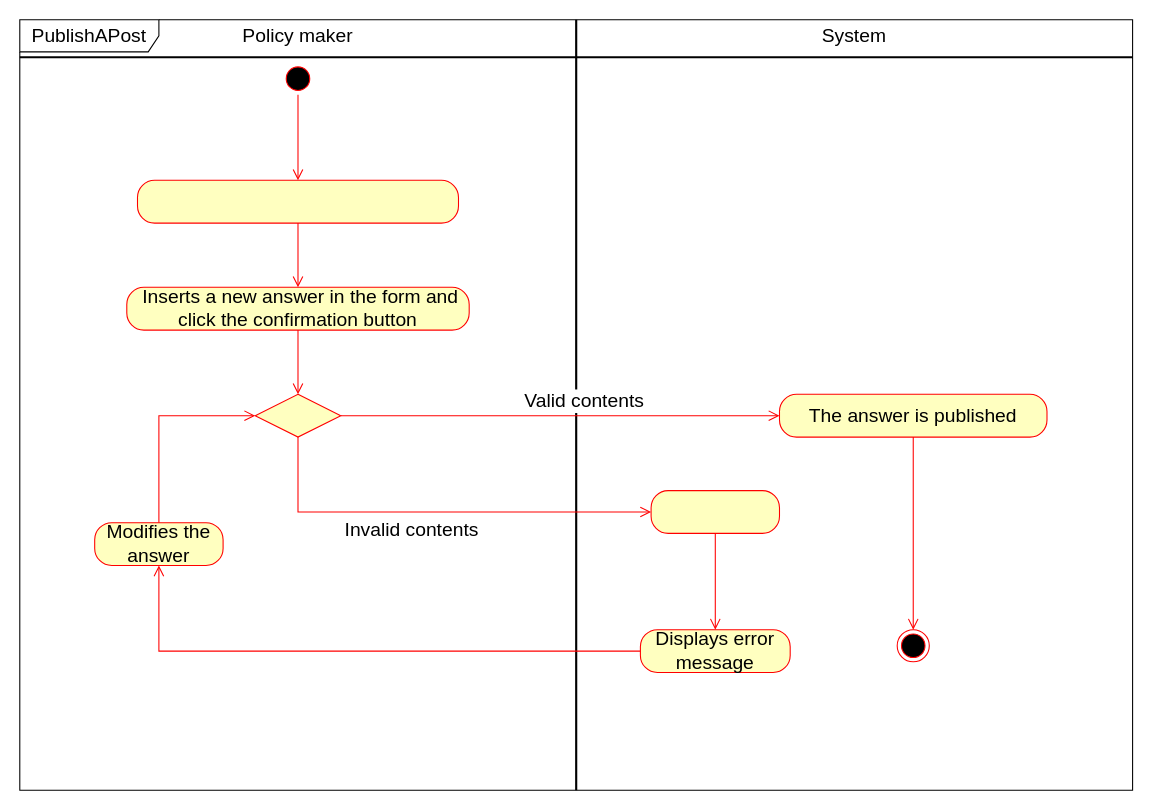
The diagram is 1151 pixels wide and 809 high, and some of its shapes have lost their labels. Here are the shapes that lost their labels. From the top down, the centre of each, then its label:
point (297, 201): Selects a section and a discussion
point (714, 511): Error
